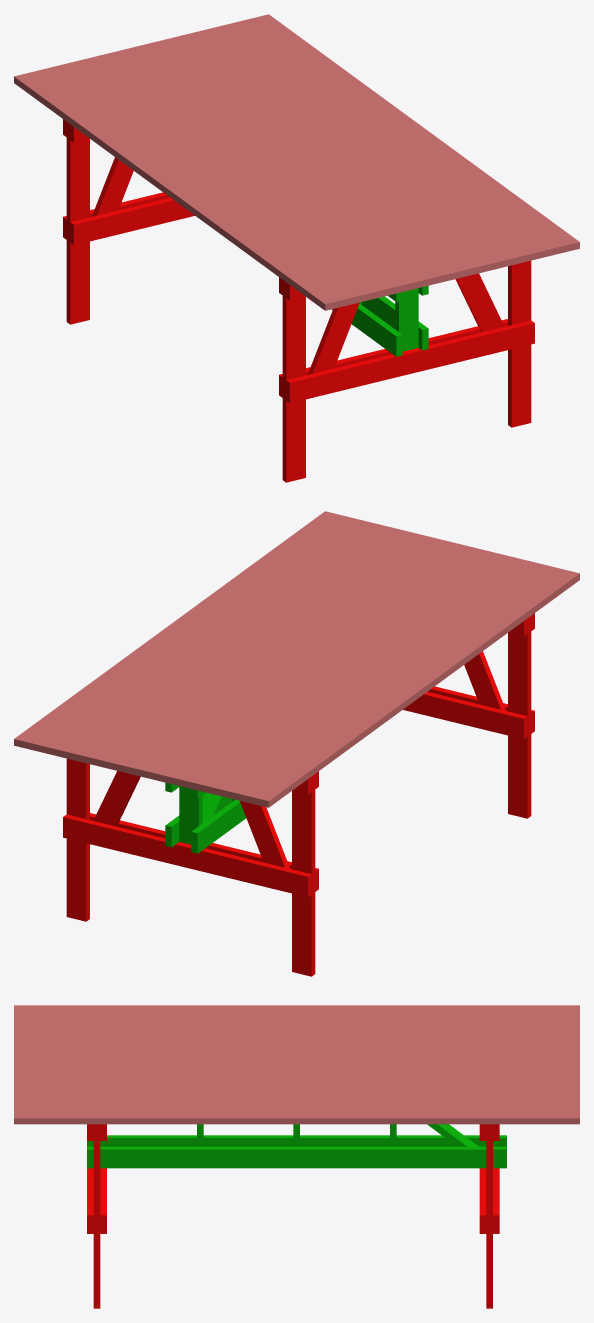
File: result.glb
3 renders of one model, top to bottom at view 1: azimuth 30°, elevation 25°; view 2: azimuth 150°, elevation 25°; view 3: azimuth 270°, elevation 25°, orthographic. The views are drawn at different scales.
Parts seen in each view (by area): view 1: 10d3a34d-5179-4768-82ed-0ecacb5ff26a__Box, 456b301a-4838-45b5-9adc-0d5982795338__undefined, 938a8367-a0eb-4b78-8891-9aaaf2218a9e__undefined, 945b4bf2-8640-4521-b6e4-6a2943f22ecd__undefined, a6cefd5f-30e9-4f0d-b15b-83b36a856186__undefined, 69f72209-ed51-4c4c-8295-1781c6a65855__undefined, fa7f78fa-ff3c-40a2-a0dd-2c3fd433b6d5__undefined, 9d964098-5b91-45ac-9444-7707c2abff21__undefined, eb06f5bf-c5cf-4ba1-b4b3-68b208d274ee__undefined, fce86124-4358-43a2-a891-b0dab8e49d26__undefined, 15e62ab5-61dd-46d2-b64b-ffbbd0e99a15__undefined, eea1260a-1ab6-4092-a8ca-d41ef087b7b5__undefined (+13 smaller); view 2: 10d3a34d-5179-4768-82ed-0ecacb5ff26a__Box, 945b4bf2-8640-4521-b6e4-6a2943f22ecd__undefined, 456b301a-4838-45b5-9adc-0d5982795338__undefined, 69f72209-ed51-4c4c-8295-1781c6a65855__undefined, 938a8367-a0eb-4b78-8891-9aaaf2218a9e__undefined, a6cefd5f-30e9-4f0d-b15b-83b36a856186__undefined, fa7f78fa-ff3c-40a2-a0dd-2c3fd433b6d5__undefined, b7877b31-8dee-48e0-b9b8-2f64e2f3ac30__undefined, eea1260a-1ab6-4092-a8ca-d41ef087b7b5__undefined, 9d964098-5b91-45ac-9444-7707c2abff21__undefined, fce86124-4358-43a2-a891-b0dab8e49d26__undefined, 15e62ab5-61dd-46d2-b64b-ffbbd0e99a15__undefined (+12 smaller); view 3: df35761e-090b-4e2d-991d-94474a2a6f50__strutH, fa7f78fa-ff3c-40a2-a0dd-2c3fd433b6d5__undefined, b7877b31-8dee-48e0-b9b8-2f64e2f3ac30__undefined, fce86124-4358-43a2-a891-b0dab8e49d26__undefined, 938a8367-a0eb-4b78-8891-9aaaf2218a9e__undefined, 10d3a34d-5179-4768-82ed-0ecacb5ff26a__Box, 456b301a-4838-45b5-9adc-0d5982795338__undefined, 9d964098-5b91-45ac-9444-7707c2abff21__undefined, 945b4bf2-8640-4521-b6e4-6a2943f22ecd__undefined, 69f72209-ed51-4c4c-8295-1781c6a65855__undefined, eb06f5bf-c5cf-4ba1-b4b3-68b208d274ee__undefined, eea1260a-1ab6-4092-a8ca-d41ef087b7b5__undefined (+10 smaller).
Part boxes in pixels (x1,y1,x2,y2): 10d3a34d-5179-4768-82ed-0ecacb5ff26a__Box: [14, 71, 344, 310]; 456b301a-4838-45b5-9adc-0d5982795338__undefined: [34, 67, 364, 305]; 938a8367-a0eb-4b78-8891-9aaaf2218a9e__undefined: [191, 28, 521, 267]; 945b4bf2-8640-4521-b6e4-6a2943f22ecd__undefined: [93, 52, 423, 291]; a6cefd5f-30e9-4f0d-b15b-83b36a856186__undefined: [230, 19, 560, 257]; 69f72209-ed51-4c4c-8295-1781c6a65855__undefined: [132, 43, 462, 281]; fa7f78fa-ff3c-40a2-a0dd-2c3fd433b6d5__undefined: [249, 14, 579, 253]; 9d964098-5b91-45ac-9444-7707c2abff21__undefined: [73, 57, 403, 296]; eb06f5bf-c5cf-4ba1-b4b3-68b208d274ee__undefined: [151, 38, 481, 277]; fce86124-4358-43a2-a891-b0dab8e49d26__undefined: [112, 48, 442, 286]; 15e62ab5-61dd-46d2-b64b-ffbbd0e99a15__undefined: [210, 24, 540, 262]; eea1260a-1ab6-4092-a8ca-d41ef087b7b5__undefined: [171, 33, 501, 272]; 10d3a34d-5179-4768-82ed-0ecacb5ff26a__Box: [249, 568, 579, 807]; 945b4bf2-8640-4521-b6e4-6a2943f22ecd__undefined: [170, 549, 501, 788]; 456b301a-4838-45b5-9adc-0d5982795338__undefined: [229, 564, 559, 802]; 69f72209-ed51-4c4c-8295-1781c6a65855__undefined: [131, 540, 461, 778]; 938a8367-a0eb-4b78-8891-9aaaf2218a9e__undefined: [72, 525, 402, 764]; a6cefd5f-30e9-4f0d-b15b-83b36a856186__undefined: [33, 516, 363, 754]; fa7f78fa-ff3c-40a2-a0dd-2c3fd433b6d5__undefined: [14, 511, 344, 750]; b7877b31-8dee-48e0-b9b8-2f64e2f3ac30__undefined: [210, 559, 540, 798]; eea1260a-1ab6-4092-a8ca-d41ef087b7b5__undefined: [92, 530, 422, 769]; 9d964098-5b91-45ac-9444-7707c2abff21__undefined: [190, 554, 520, 793]; fce86124-4358-43a2-a891-b0dab8e49d26__undefined: [151, 544, 481, 783]; 15e62ab5-61dd-46d2-b64b-ffbbd0e99a15__undefined: [53, 521, 383, 759]; df35761e-090b-4e2d-991d-94474a2a6f50__strutH: [87, 1146, 506, 1168]; fa7f78fa-ff3c-40a2-a0dd-2c3fd433b6d5__undefined: [14, 1109, 579, 1124]; b7877b31-8dee-48e0-b9b8-2f64e2f3ac30__undefined: [14, 1022, 579, 1031]; fce86124-4358-43a2-a891-b0dab8e49d26__undefined: [14, 1048, 579, 1057]; 938a8367-a0eb-4b78-8891-9aaaf2218a9e__undefined: [14, 1083, 579, 1092]; 10d3a34d-5179-4768-82ed-0ecacb5ff26a__Box: [14, 1005, 579, 1013]; 456b301a-4838-45b5-9adc-0d5982795338__undefined: [14, 1014, 579, 1022]; 9d964098-5b91-45ac-9444-7707c2abff21__undefined: [14, 1031, 579, 1039]; 945b4bf2-8640-4521-b6e4-6a2943f22ecd__undefined: [14, 1040, 579, 1048]; 69f72209-ed51-4c4c-8295-1781c6a65855__undefined: [14, 1057, 579, 1065]; eb06f5bf-c5cf-4ba1-b4b3-68b208d274ee__undefined: [14, 1066, 579, 1074]; eea1260a-1ab6-4092-a8ca-d41ef087b7b5__undefined: [14, 1075, 579, 1083].
Bounding box in the file's own units: 1040 × 826 × 2200.
